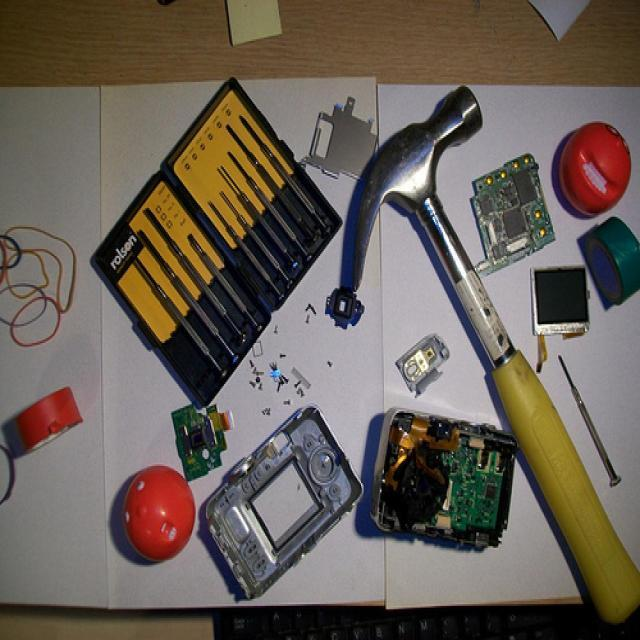hammer: (336, 82, 548, 430)
